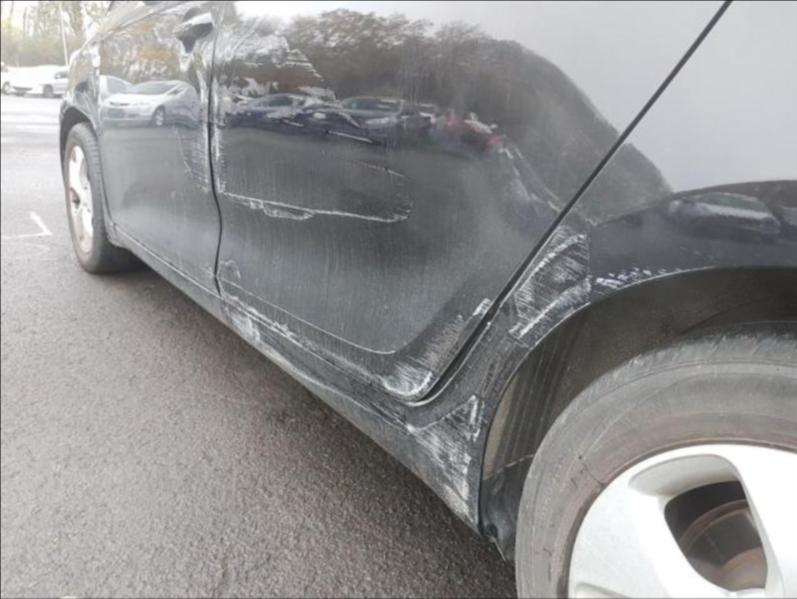Scratch: (213, 76, 412, 220), (216, 258, 376, 376), (220, 278, 396, 354), (383, 299, 489, 404), (511, 222, 590, 348), (412, 407, 480, 526), (398, 328, 485, 407), (259, 339, 360, 404), (489, 134, 561, 214), (173, 74, 211, 194), (592, 263, 706, 301), (230, 34, 323, 80), (290, 85, 359, 130), (220, 300, 270, 349), (319, 152, 405, 177), (358, 404, 398, 427), (324, 131, 378, 144), (415, 376, 440, 400), (470, 298, 496, 318), (211, 77, 222, 118), (278, 117, 302, 127)
